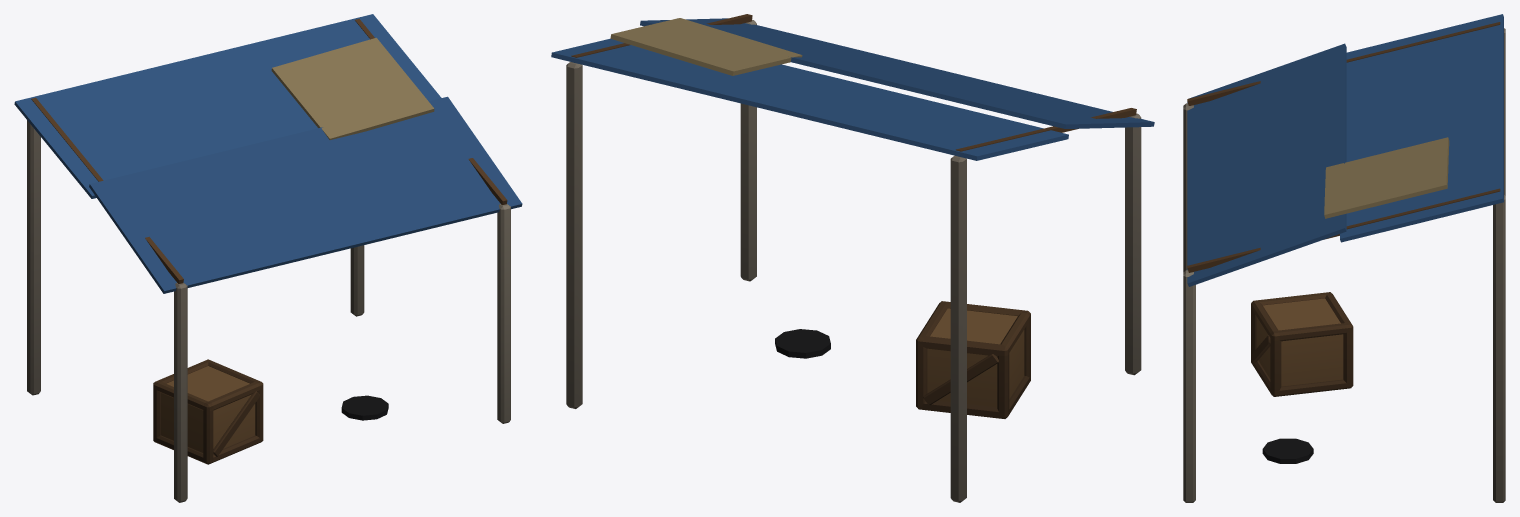
File: tarp_shelter.glb
The picture shows the model from 3 angles, left to right: view 1: azimuth 30°, elevation 25°; view 2: azimuth 150°, elevation 25°; view 3: azimuth 270°, elevation 25°; orthographic projection. The views are drawn at different scales.
Parts seen in each view (by area): view 1: tarp_shelter; view 2: tarp_shelter; view 3: tarp_shelter.
Boxes of the visible parts, <box> form: tarp_shelter: <box>14,14,522,502</box>; tarp_shelter: <box>551,14,1154,502</box>; tarp_shelter: <box>1183,14,1505,502</box>.
Bounding box in the file's own units: 3.1 × 2.46 × 2.29.
